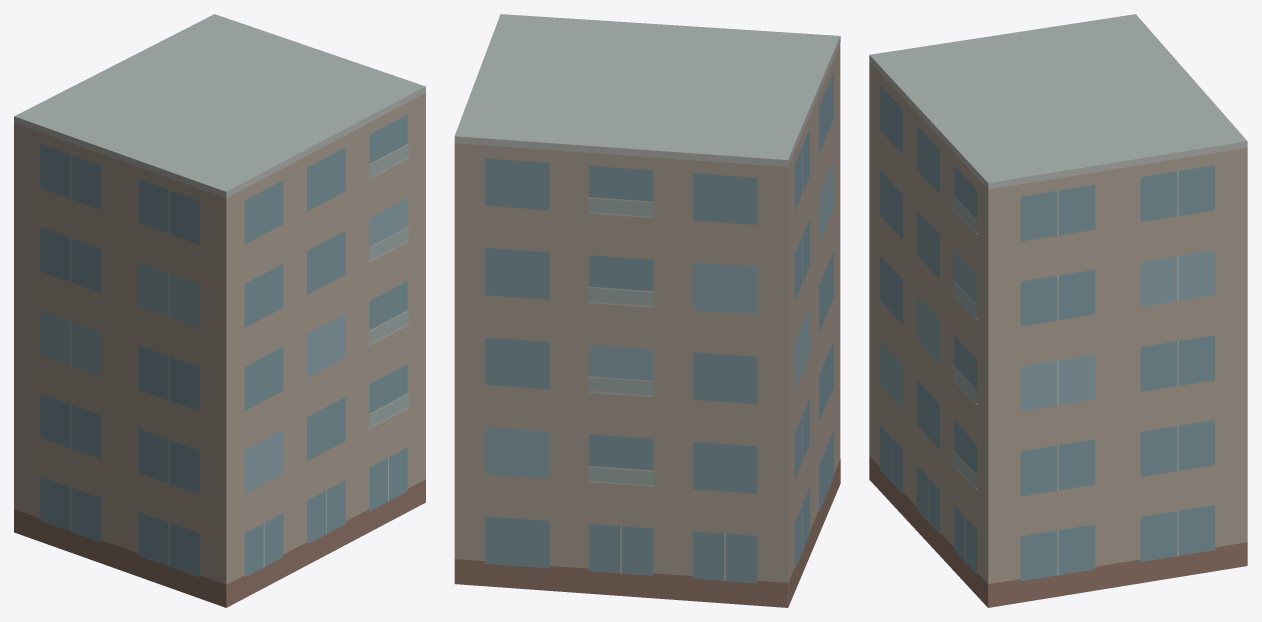
The model's file is survey-upis-32857779.glb.
3 views of the same model, side by side, from view 1: azimuth 30°, elevation 25°; view 2: azimuth 150°, elevation 25°; view 3: azimuth 270°, elevation 25° (orthographic). The views are drawn at different scales.
Visible parts, largest first — view 1: survey-upis-32857779.tmp; view 2: survey-upis-32857779.tmp; view 3: survey-upis-32857779.tmp.
Boxes of the visible parts, x1,y1,x2,y2 form: survey-upis-32857779.tmp: (14, 14, 425, 607); survey-upis-32857779.tmp: (454, 14, 840, 607); survey-upis-32857779.tmp: (869, 14, 1247, 607).
Size of the model in its own units: 13.41 by 15.7 by 12.68.
